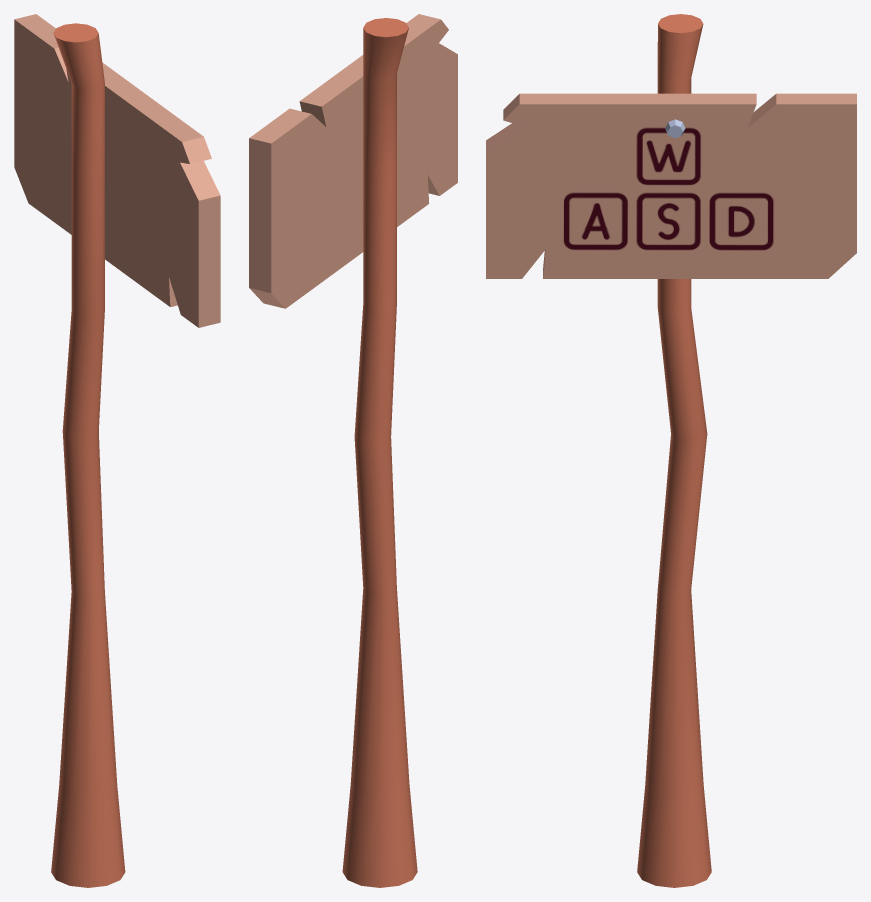
The model's file is cartel.fbx.
3 views of the same model, side by side, from view 1: azimuth 30°, elevation 25°; view 2: azimuth 150°, elevation 25°; view 3: azimuth 270°, elevation 25° (orthographic).
Parts seen in each view (by area): view 1: Cylinder; view 2: Cylinder; view 3: Cylinder.
Part boxes in pixels (x1,y1,x2,y2): Cylinder: [14, 14, 220, 887]; Cylinder: [249, 14, 457, 887]; Cylinder: [486, 14, 856, 887].
Bounding box in the file's own units: 39.62 × 410 × 163.
